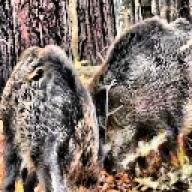boar: (85, 13, 192, 174), (0, 43, 100, 192)
